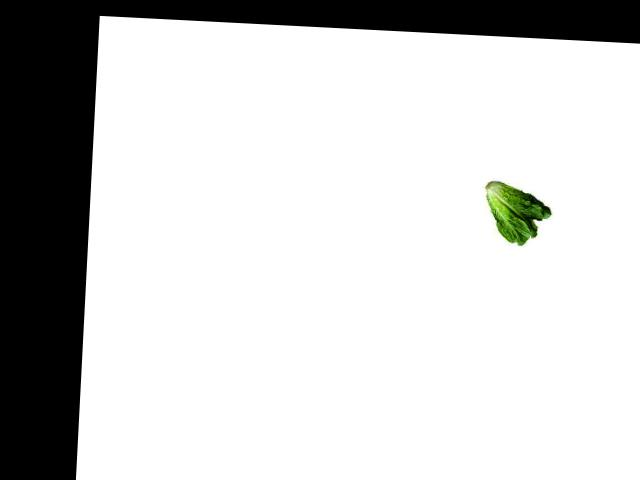lettuce: (480, 179, 552, 255)
